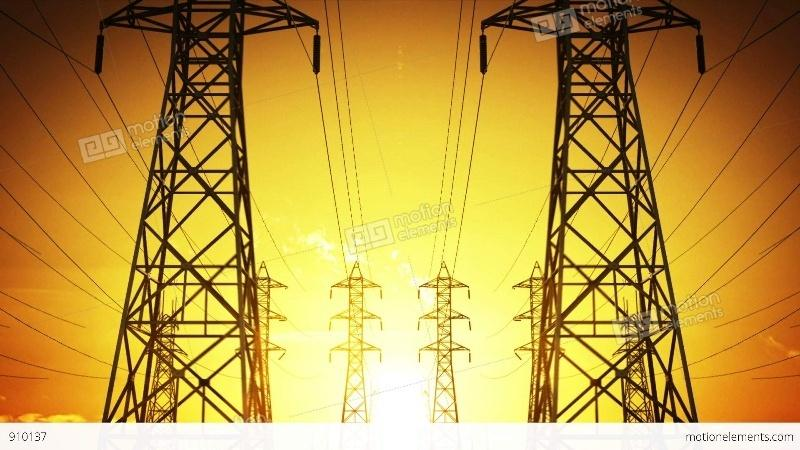power_tower: (475, 0, 728, 424), (87, 5, 307, 426), (413, 263, 472, 419), (336, 261, 387, 417)
